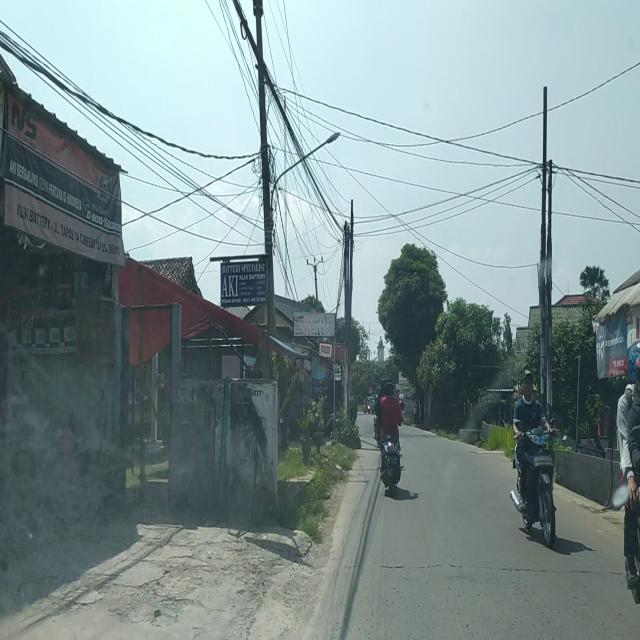Sewer Cover: (378, 562, 628, 580)
